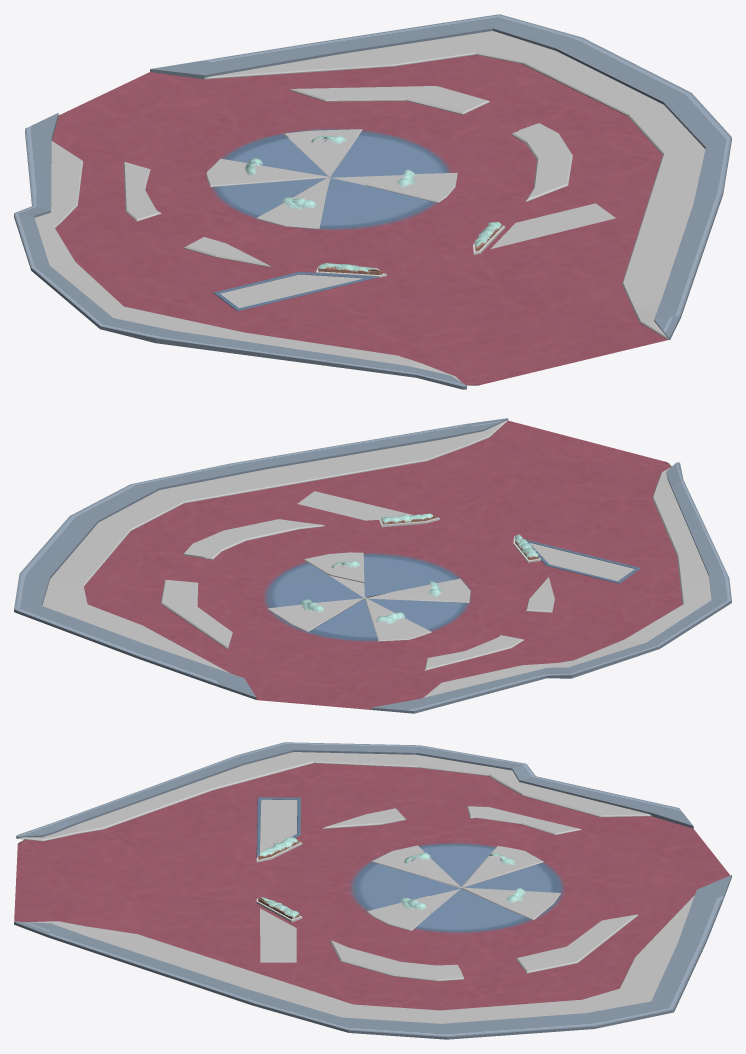
The model's file is Batch_Assets_3.fbx.
3 renders of one model, top to bottom at view 1: azimuth 30°, elevation 25°; view 2: azimuth 150°, elevation 25°; view 3: azimuth 270°, elevation 25°, orthographic. The views are drawn at different scales.
Parts seen in each view (by area): view 1: PisteFinale.001, Plane.027, Plane.019; view 2: PisteFinale.001, Plane.027, Plane.019; view 3: PisteFinale.001, Plane.027, Plane.019.
Boxes of the visible parts, x1,y1,x2,y2 form: PisteFinale.001: (14, 14, 731, 389); Plane.027: (220, 203, 615, 308); Plane.019: (213, 272, 378, 311); PisteFinale.001: (14, 418, 731, 713); Plane.027: (297, 491, 634, 581); Plane.019: (526, 539, 640, 583); PisteFinale.001: (14, 742, 731, 1039); Plane.027: (260, 799, 297, 962); Plane.019: (256, 797, 300, 857).
Size of what is drawn, in the model's own units: 6702 by 123 by 6907.
